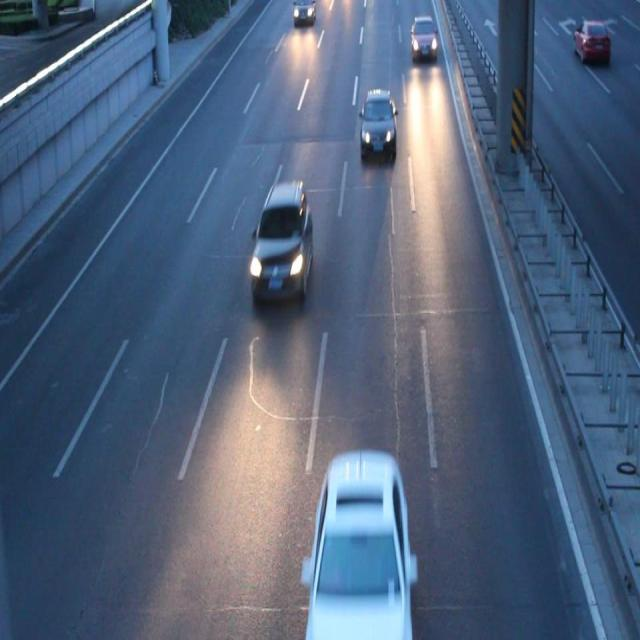car: (302, 449, 417, 640), (249, 178, 313, 300), (358, 87, 397, 160), (408, 16, 436, 62), (294, 1, 315, 27)
